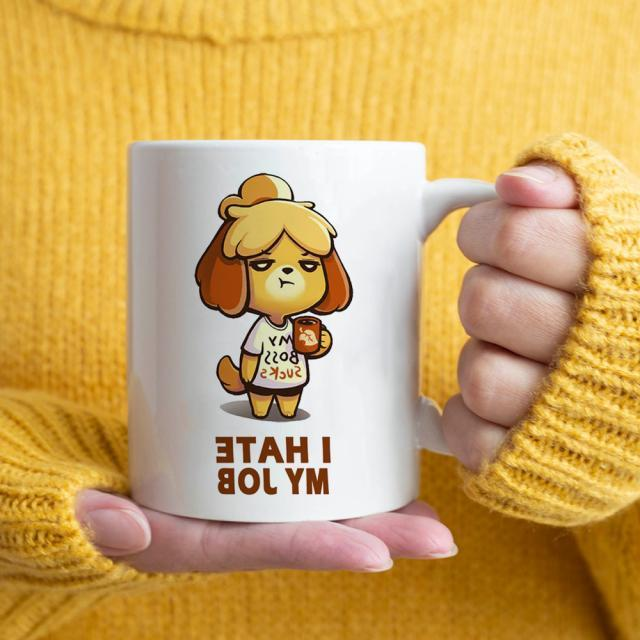Coffee Mug: (127, 139, 505, 522)
